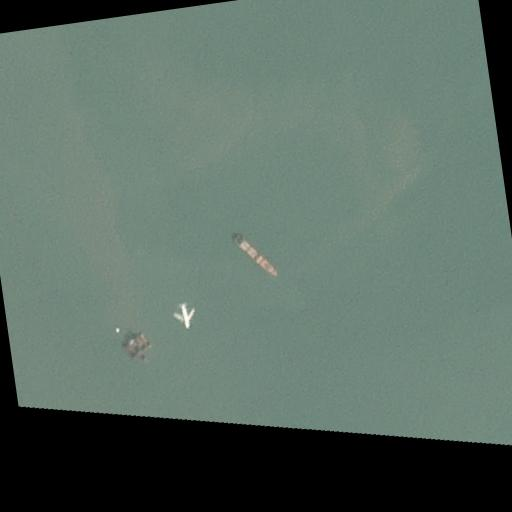ship: (232, 227, 280, 285)
